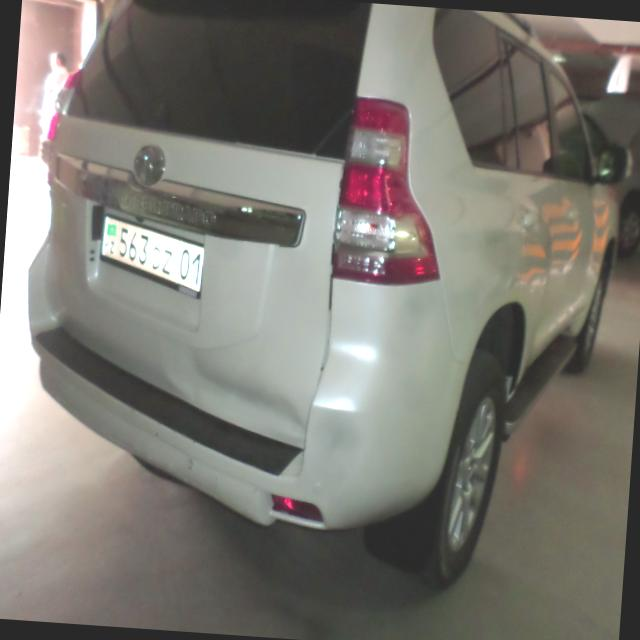Cabossage: (163, 343, 313, 450), (384, 280, 446, 400), (306, 405, 364, 508)
Rayure: (185, 450, 199, 472)
